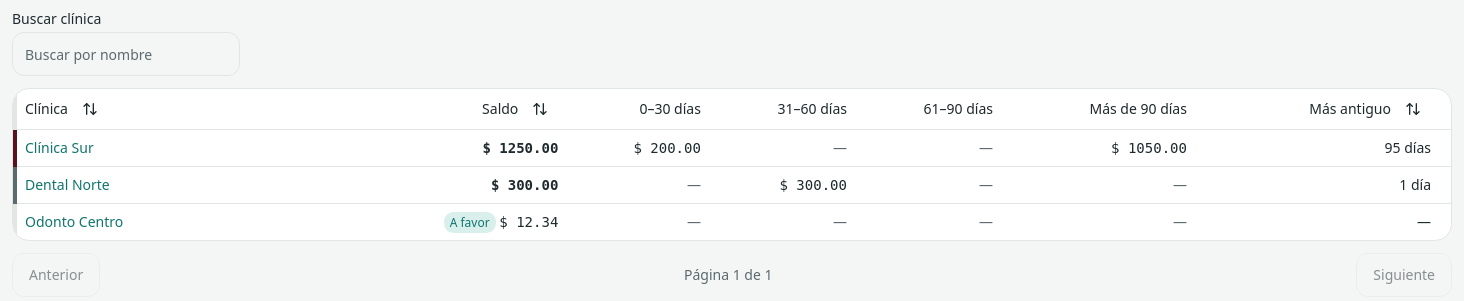
Test: AccountsTable — escritorio › busca por clínica
Step 1. Type "norte" into the search field labelled "Buscar clínica" → (126, 54), box [12,32,240,76]
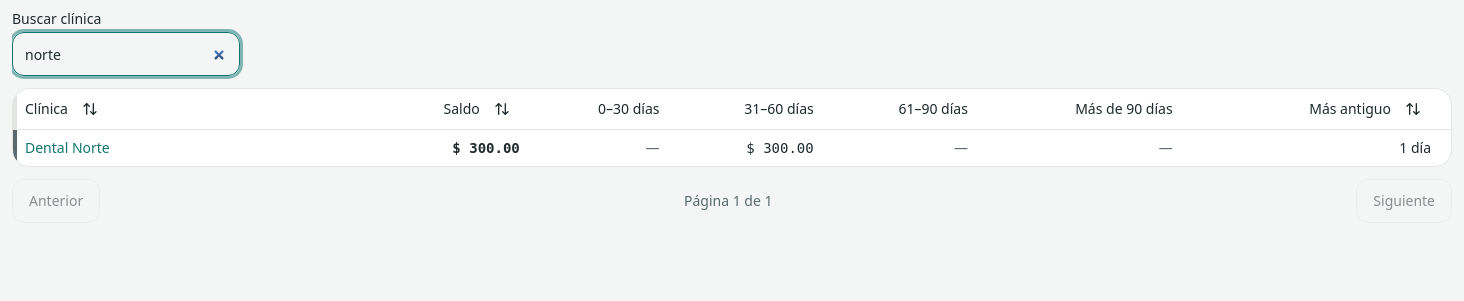
Check: the link "Dental Norte" is shown, box [25,138,110,156]
Check: the link "Clínica Sur" is gone
